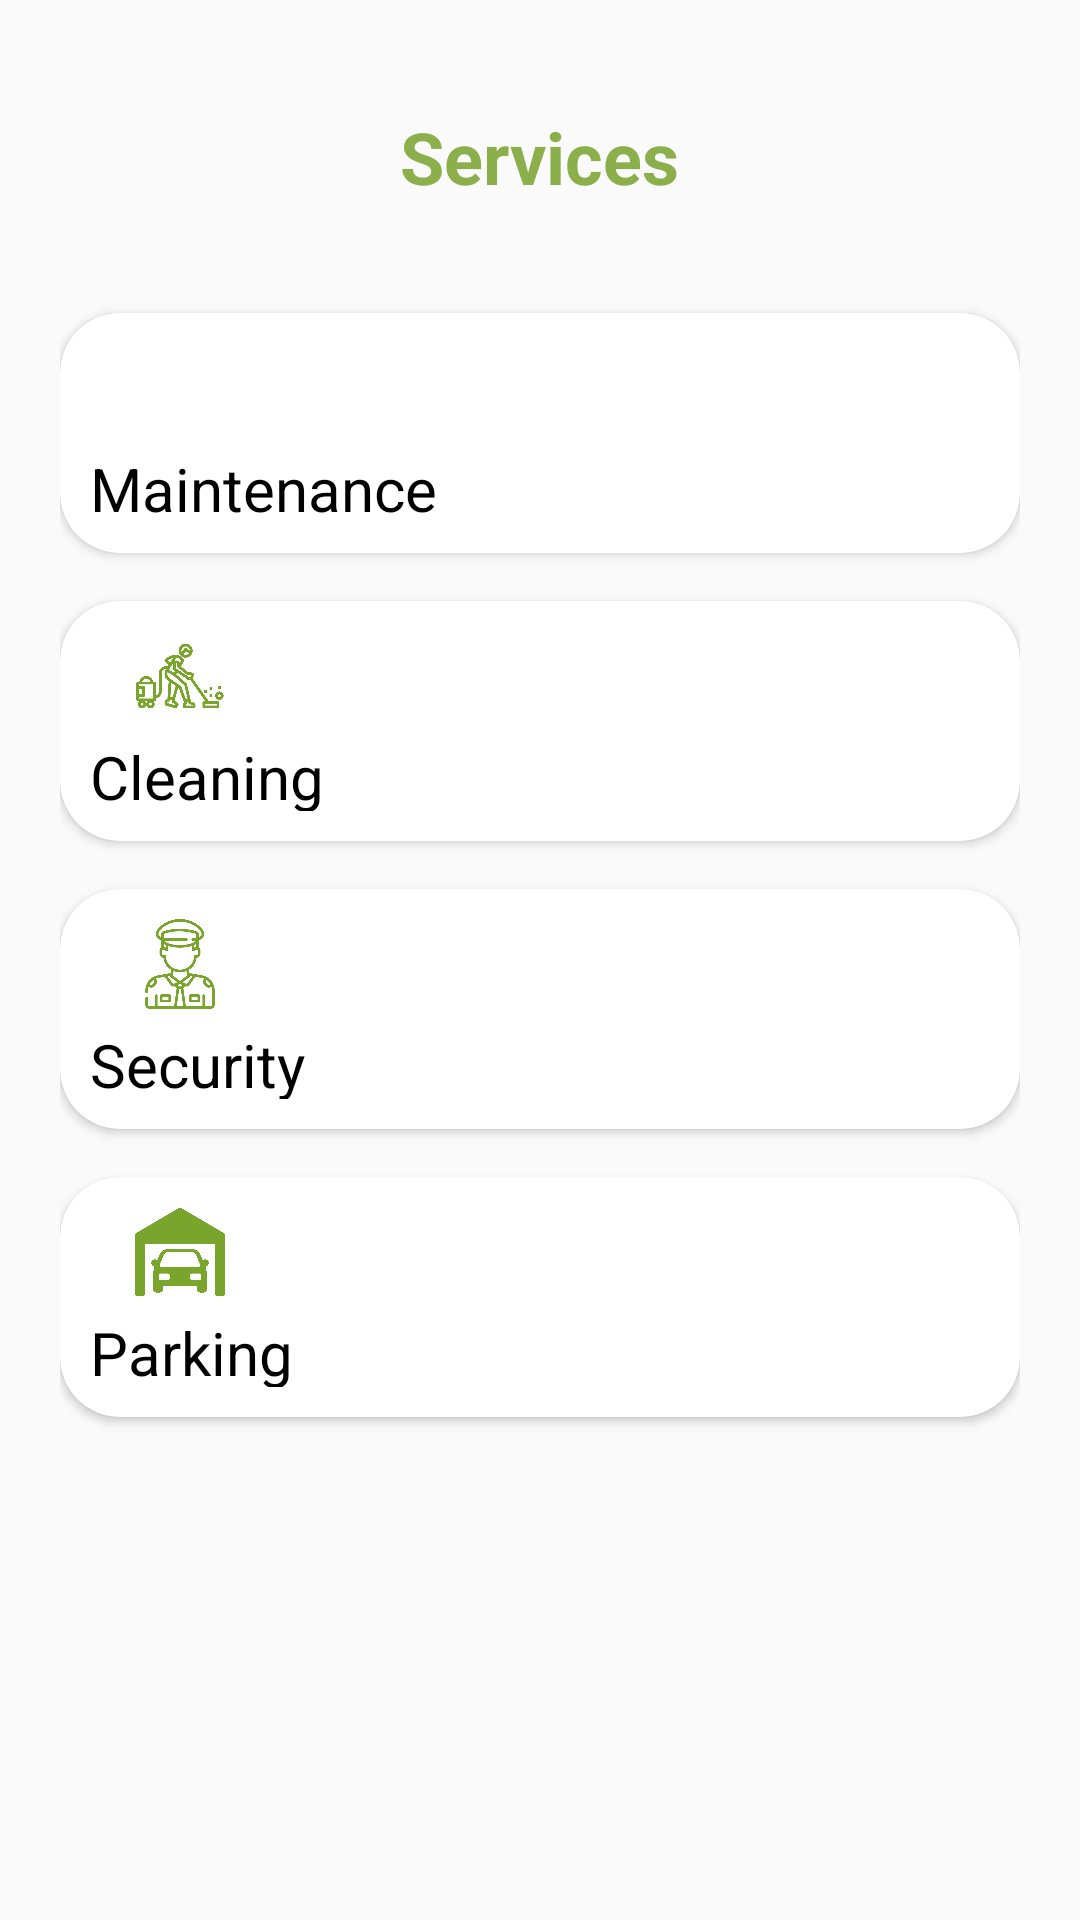

Screen size 1080px×1920px. Icon name, then its center in pixels as (x=x, y=y):
policeman: (x=180, y=964)
